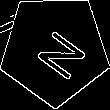N_NW: (24, 18, 85, 81)
